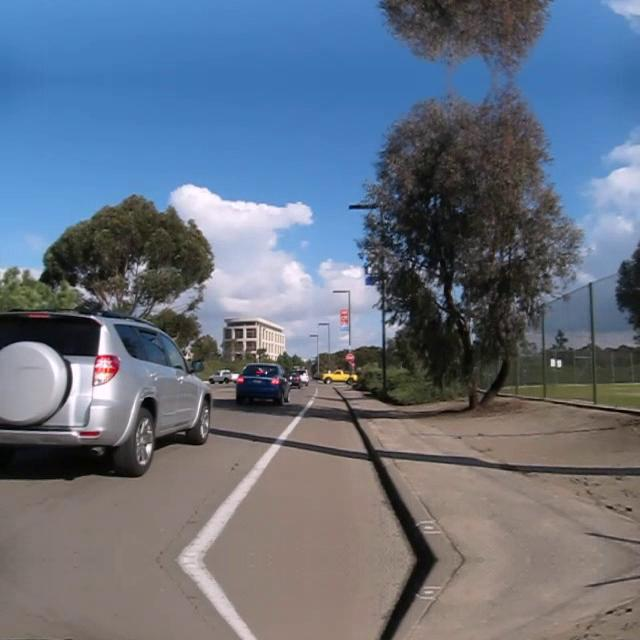stop: (344, 351, 354, 364)
